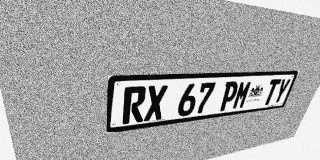6: (176, 83, 200, 117)
7: (193, 82, 216, 115)
M: (231, 80, 253, 110)
P: (218, 81, 240, 111)
R: (122, 86, 147, 124)
T: (261, 79, 282, 106)
X: (144, 85, 168, 121)
Y: (272, 78, 291, 104)
